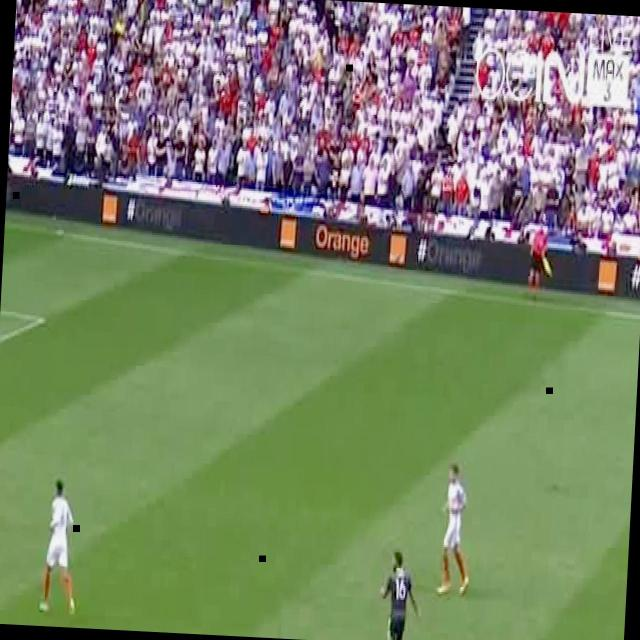player-white: (36, 477, 82, 617), (437, 462, 475, 597), (376, 551, 420, 640), (527, 222, 548, 302)
